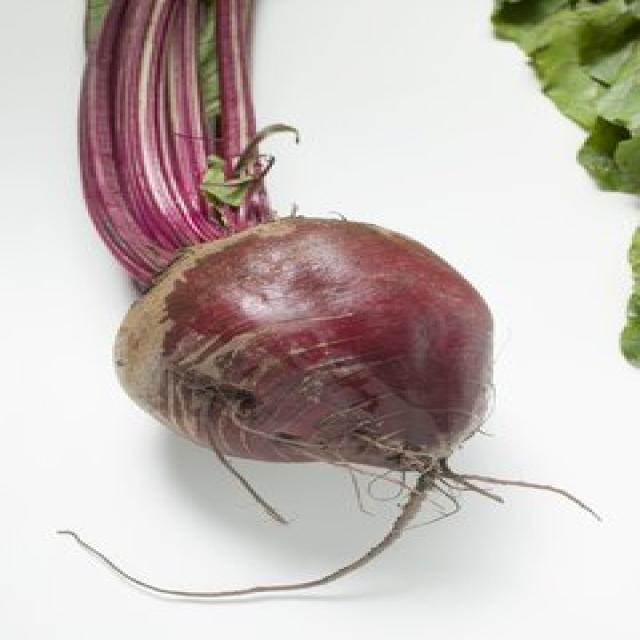Beetroot: (111, 205, 547, 459)
Bell Pepper: (616, 214, 637, 372)
